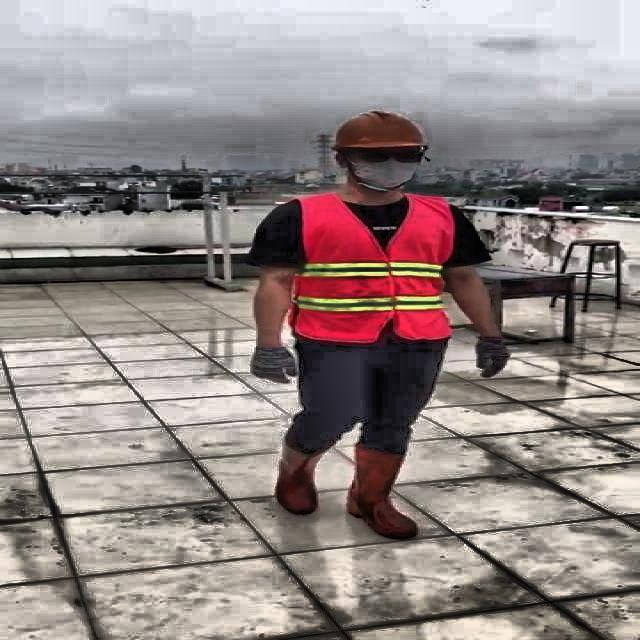safety_jacket: (290, 192, 453, 342)
